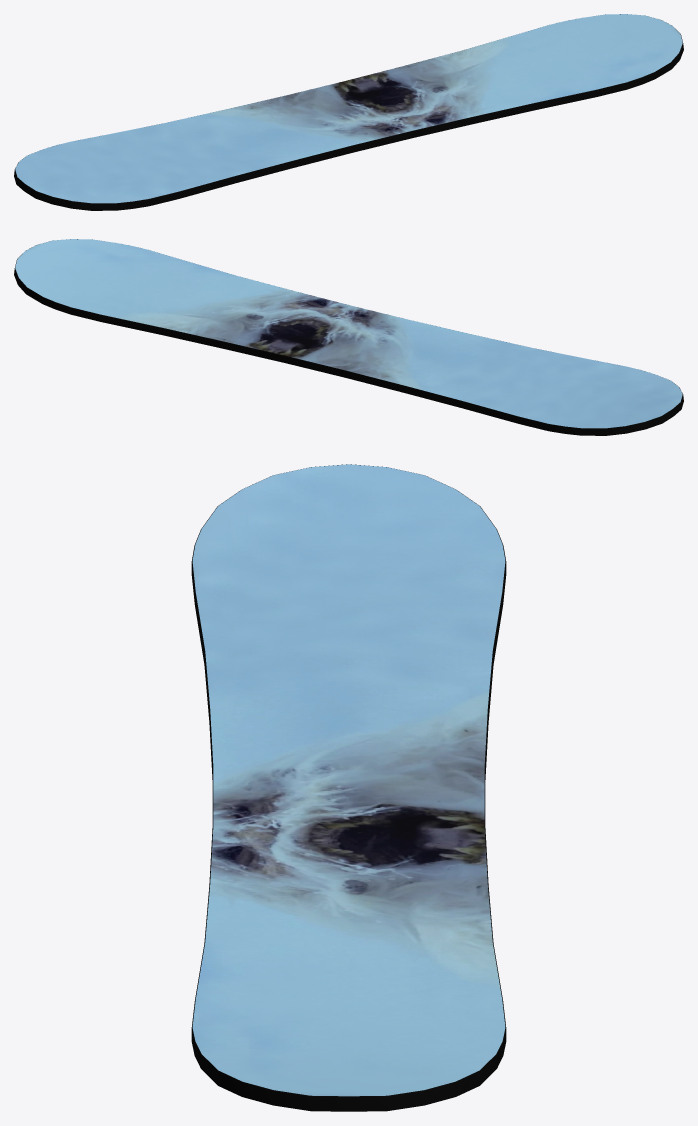
The model's file is WampBoard.fbx.
3 renders of one model, top to bottom at view 1: azimuth 30°, elevation 25°; view 2: azimuth 150°, elevation 25°; view 3: azimuth 270°, elevation 25°, orthographic. The views are drawn at different scales.
Visible parts, largest first — view 1: WampaSnowboard1; view 2: WampaSnowboard1; view 3: WampaSnowboard1.
Part boxes in pixels (<box>): WampaSnowboard1: <box>14,14,683,210</box>; WampaSnowboard1: <box>14,239,683,435</box>; WampaSnowboard1: <box>191,464,506,1111</box>.
Size of the model in its own units: 1.63 by 0.0373 by 0.3417.
